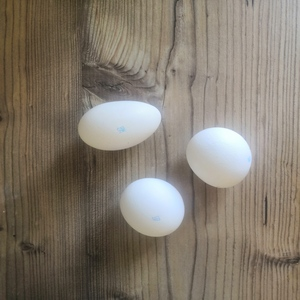white egg: (77, 99, 162, 151), (185, 125, 252, 189), (119, 177, 186, 238)
